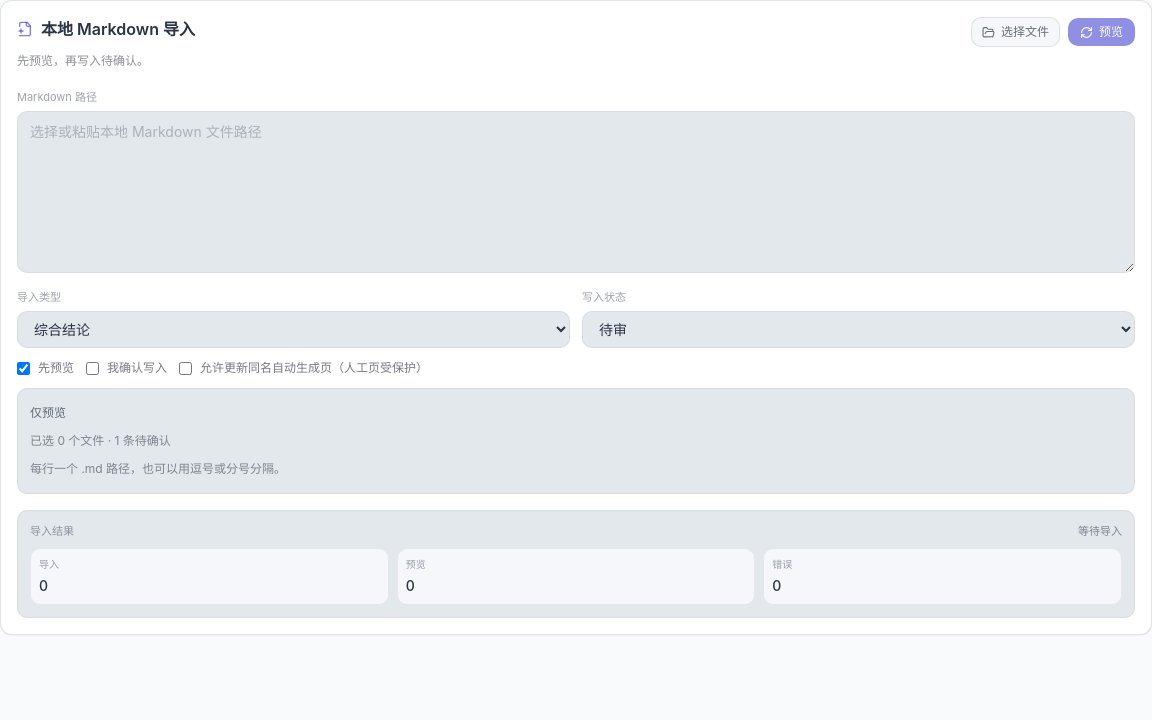
Test: WikiImportMarkdownPanel › uses the native open dialog to add a markdown path when available
Click the button "选择文件" at (1016, 32), box [971, 17, 1060, 47]
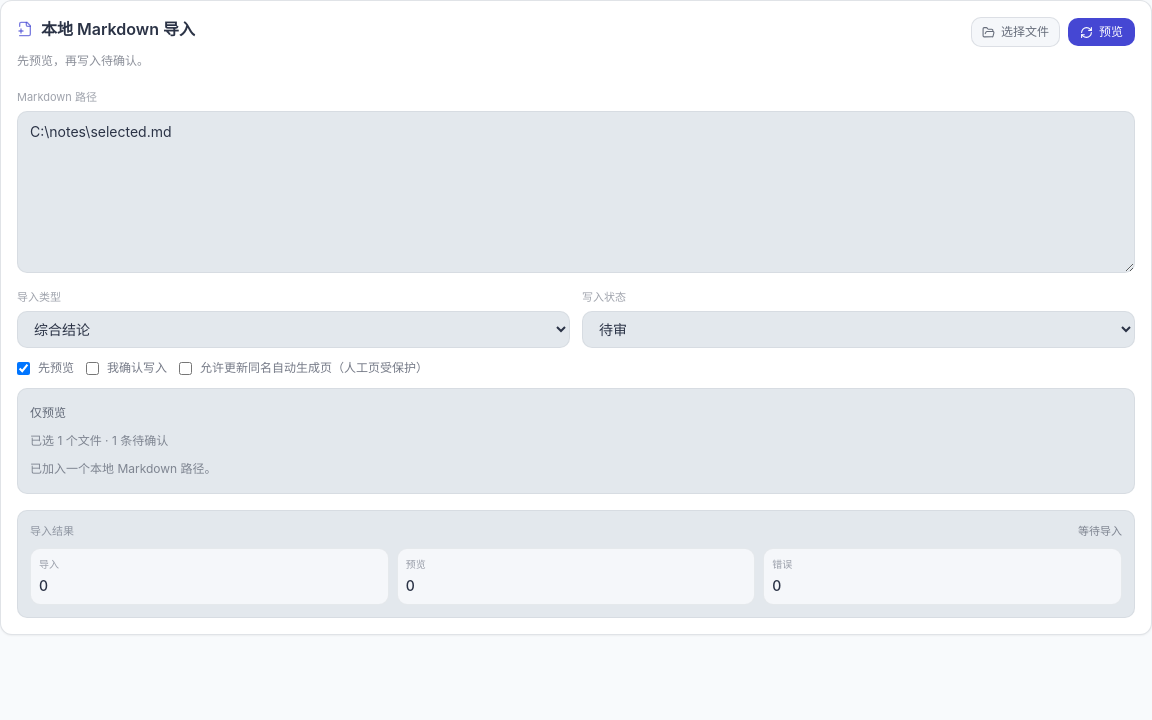
Now the text box showing "C:\\notes\\selected.md" is shown, box [17, 111, 1135, 273]
